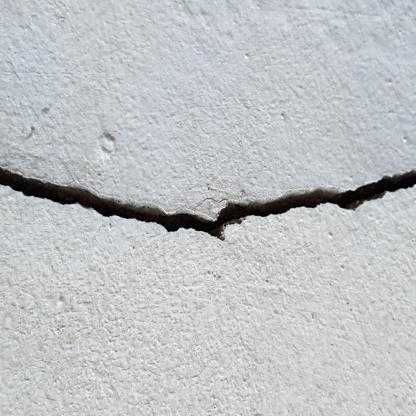crack: (0, 167, 416, 238)
